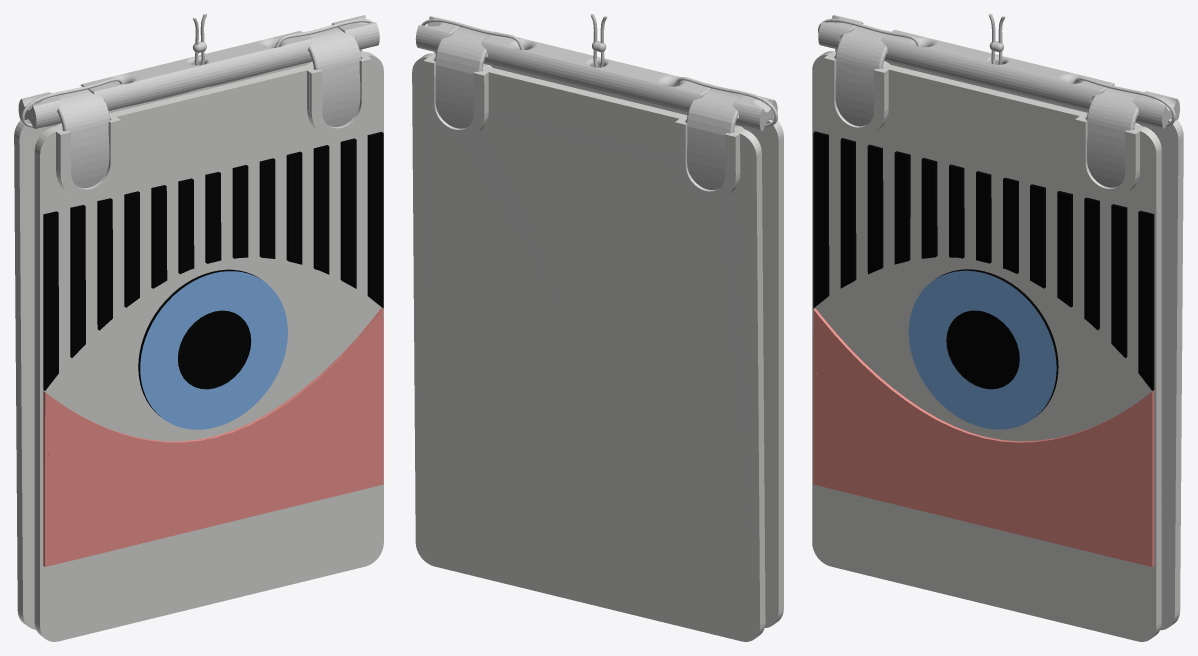
The model's file is tascabile_v3.glb.
3 views of the same model, side by side, from view 1: azimuth 30°, elevation 25°; view 2: azimuth 150°, elevation 25°; view 3: azimuth 330°, elevation 25° (orthographic).
Visible parts, largest first — view 1: Body1 (1), Body13, Body16, Body1, Body1 (2), Body4 (1), Body8, Body15, Body4, Body8 (1), Body11 (1), Body1 (3) (+10 smaller); view 2: Body1, Body1 (1), Body1 (2), Body8, Body4 (1), Body10, Body9; view 3: Body1 (1), Body13, Body16, Body1, Body1 (2), Body4 (1), Body8, Body15, Body4, Body8 (1), Body11 (1), Body12 (+10 smaller).
Boxes of the visible parts, x1=… form: Body1 (1): x1=34, y1=51, x2=383, y2=641; Body13: x1=43, y1=308, x2=383, y2=566; Body16: x1=138, y1=269, x2=287, y2=429; Body1: x1=14, y1=49, x2=362, y2=629; Body1 (2): x1=18, y1=15, x2=379, y2=128; Body4 (1): x1=306, y1=27, x2=361, y2=126; Body8: x1=55, y1=89, x2=110, y2=188; Body15: x1=367, y1=132, x2=383, y2=308; Body4: x1=43, y1=211, x2=58, y2=390; Body8 (1): x1=340, y1=138, x2=356, y2=288; Body11 (1): x1=70, y1=205, x2=85, y2=357; Body1 (3): x1=313, y1=145, x2=329, y2=274; Body1: x1=412, y1=53, x2=765, y2=641; Body1 (1): x1=434, y1=52, x2=783, y2=627; Body1 (2): x1=415, y1=16, x2=777, y2=131; Body8: x1=686, y1=88, x2=743, y2=189; Body4 (1): x1=435, y1=27, x2=492, y2=128; Body10: x1=600, y1=16, x2=777, y2=127; Body9: x1=421, y1=14, x2=597, y2=67; Body1 (1): x1=812, y1=51, x2=1161, y2=641; Body13: x1=813, y1=308, x2=1154, y2=567; Body16: x1=908, y1=269, x2=1058, y2=429; Body1: x1=835, y1=49, x2=1183, y2=630; Body1 (2): x1=818, y1=15, x2=1179, y2=128; Body4 (1): x1=1086, y1=88, x2=1140, y2=187; Body8: x1=835, y1=26, x2=889, y2=126; Body15: x1=1138, y1=210, x2=1154, y2=390; Body4: x1=813, y1=131, x2=829, y2=308; Body8 (1): x1=1111, y1=204, x2=1127, y2=357; Body11 (1): x1=840, y1=138, x2=856, y2=288; Body12: x1=867, y1=144, x2=883, y2=274.
Bounding box in the file's own units: 0.0768 × 0.1192 × 0.0134.
